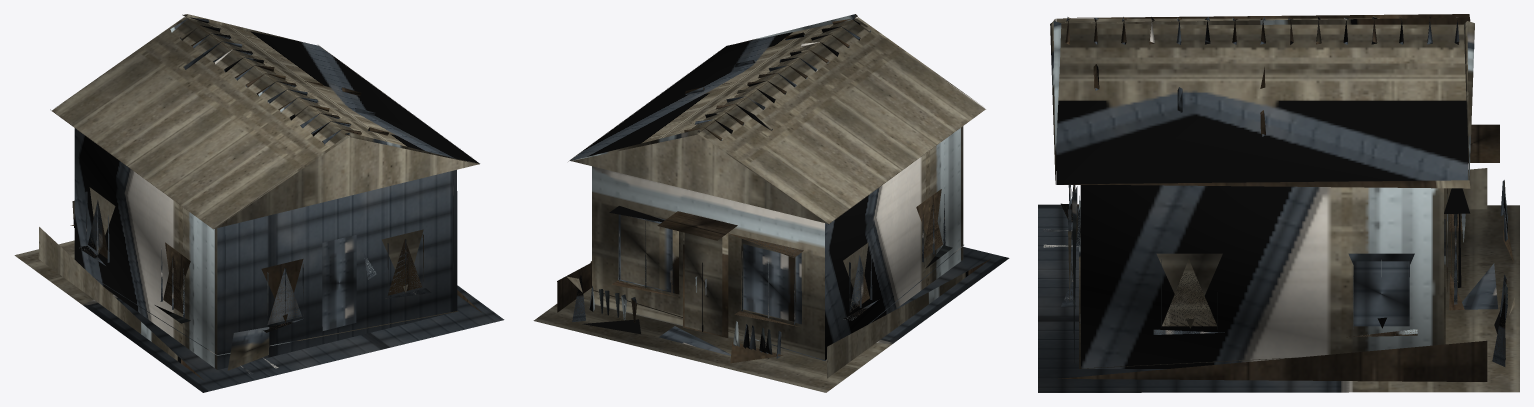
The model's file is residential_003.lod2.obj.
The picture shows the model from 3 angles, left to right: view 1: azimuth 30°, elevation 25°; view 2: azimuth 150°, elevation 25°; view 3: azimuth 270°, elevation 25°; orthographic projection. The views are drawn at different scales.
Parts seen in each view (by area): view 1: residential_003; view 2: residential_003; view 3: residential_003.
Part boxes in pixels (<box>): residential_003: <box>14,14,504,392</box>; residential_003: <box>533,14,1009,392</box>; residential_003: <box>1038,14,1519,392</box>.
Size of the model in its own units: 6.82 by 4.74 by 7.39.
1 material, 1 textured.
